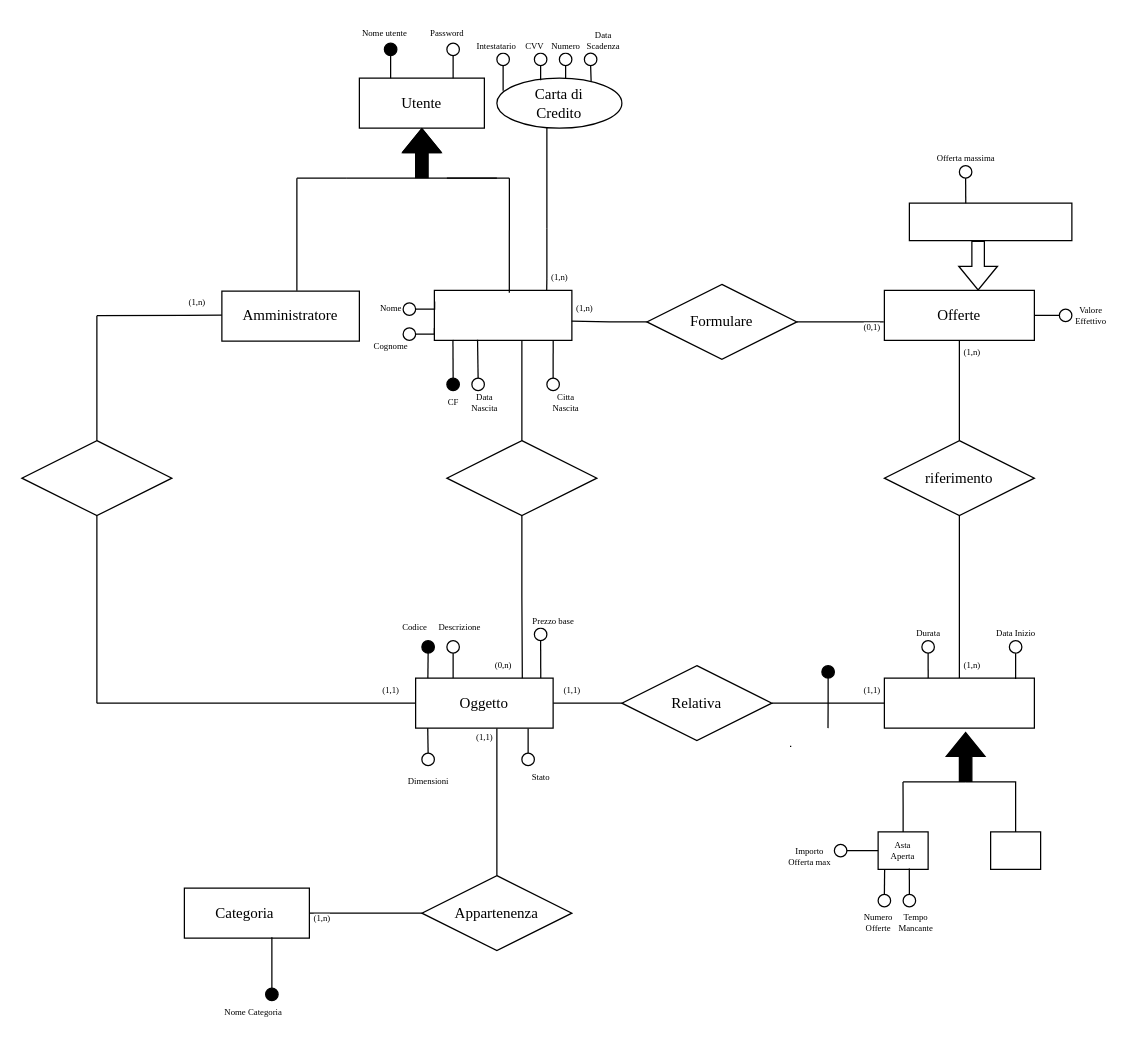
Some shapes in this 1144 by 1046 pixel diagram are drawn without their labels. The box of each missing label's shape, as (x1, y1, x2, y2) in pixels:
Asta: (883, 677, 1034, 728)
Cliente: (433, 289, 572, 340)
Controfferta Automatica: (908, 202, 1072, 241)
Creazione: (21, 439, 172, 516)
Nuova Asta: (989, 831, 1041, 869)
Posseduto: (446, 439, 597, 516)
